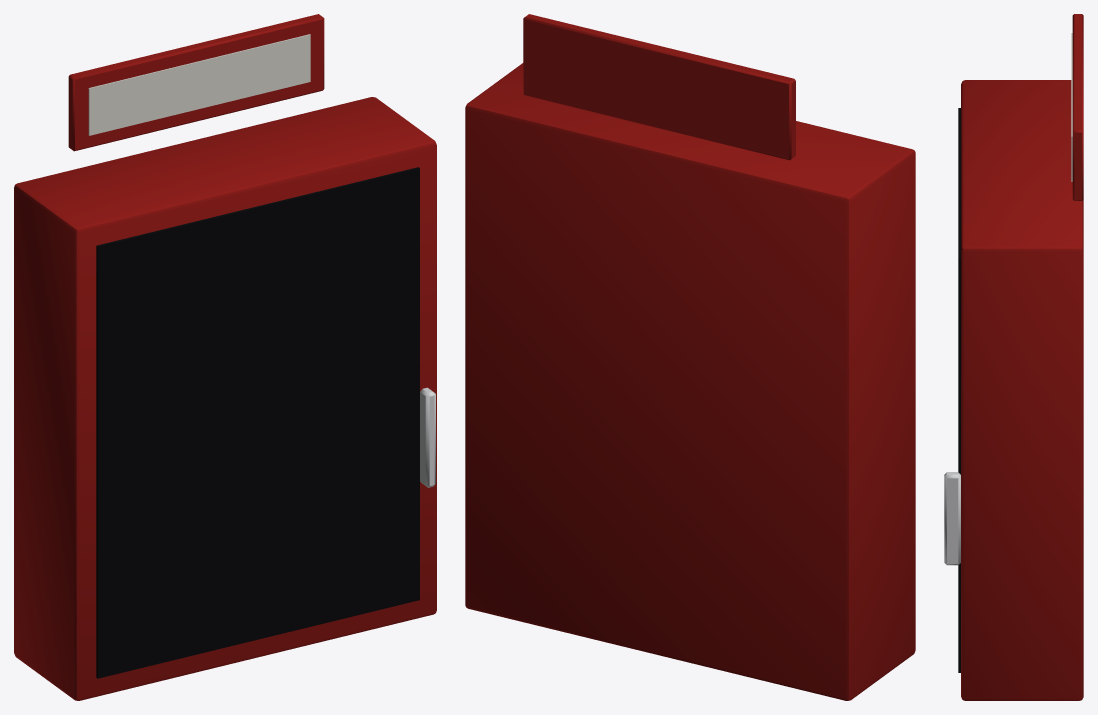
Rendered from hose.glb.
The picture shows the model from 3 angles, left to right: view 1: azimuth 30°, elevation 25°; view 2: azimuth 150°, elevation 25°; view 3: azimuth 270°, elevation 25°; orthographic projection. The views are drawn at different scales.
Parts seen in each view (by area): view 1: hose; view 2: hose; view 3: hose.
Boxes of the visible parts, box(x1,y1,x2,y2) form: hose: box(14, 14, 436, 700); hose: box(465, 14, 915, 700); hose: box(944, 14, 1083, 700).
Bounding box in the file's own units: 0.72 × 1.08 × 0.25.
